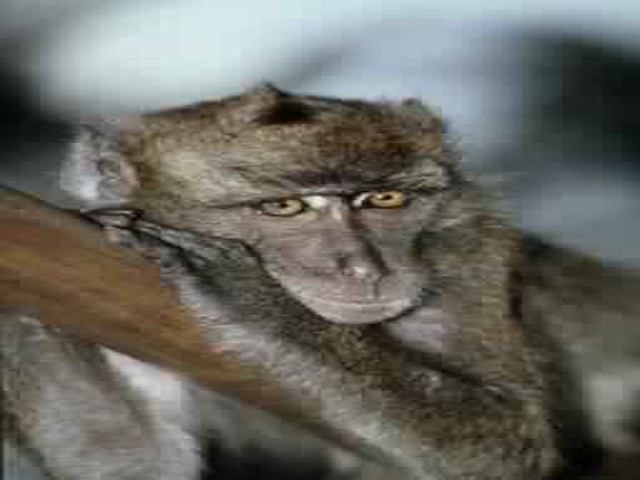Monkey: (59, 81, 630, 464)
